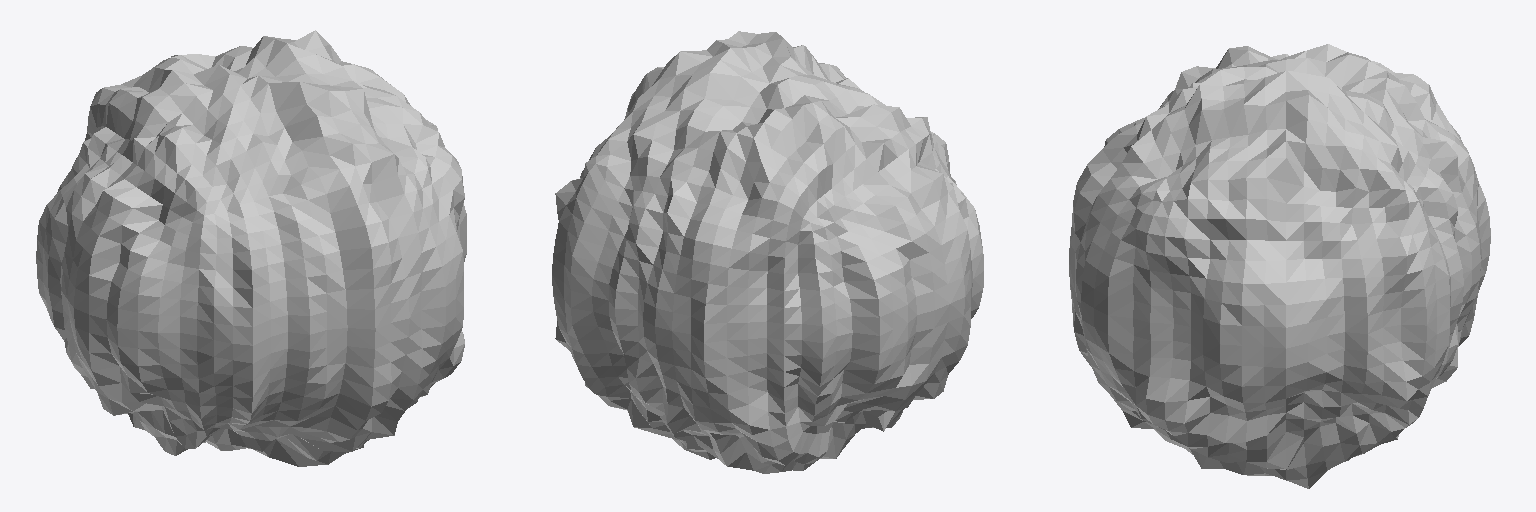
The model's file is asteroid184.obj.
The picture shows the model from 3 angles: view 1: azimuth 30°, elevation 25°; view 2: azimuth 150°, elevation 25°; view 3: azimuth 270°, elevation 25°; orthographic projection.
Visible parts, largest first — view 1: Cube_Cube.002; view 2: Cube_Cube.002; view 3: Cube_Cube.002.
Boxes of the visible parts, x1=… form: Cube_Cube.002: x1=36, y1=30, x2=466, y2=466; Cube_Cube.002: x1=552, y1=31, x2=983, y2=473; Cube_Cube.002: x1=1069, y1=44, x2=1490, y2=488.
Size of the model in its own units: 1.83 by 1.86 by 1.76.